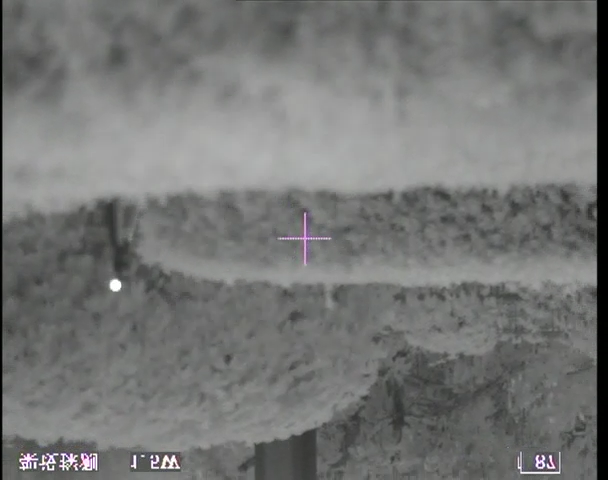my: (107, 278, 123, 293)
